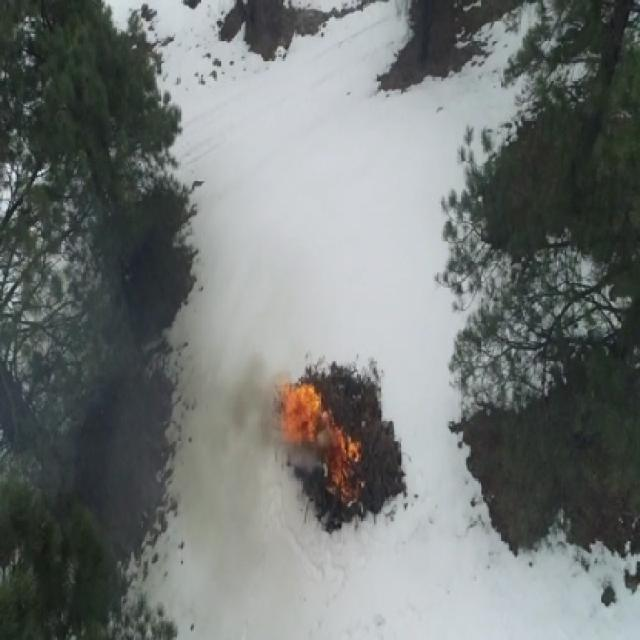Fire: (282, 385, 322, 442), (334, 438, 359, 492), (328, 413, 346, 450)
